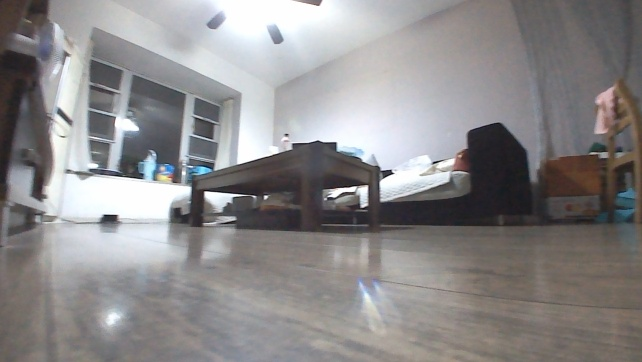sofa: (350, 119, 539, 223)
tea_table: (184, 140, 382, 231)
